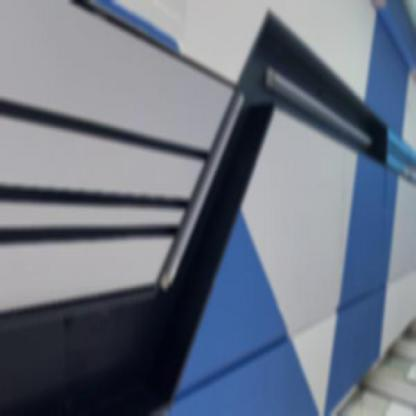light_off: (154, 77, 246, 296), (260, 54, 376, 178)
